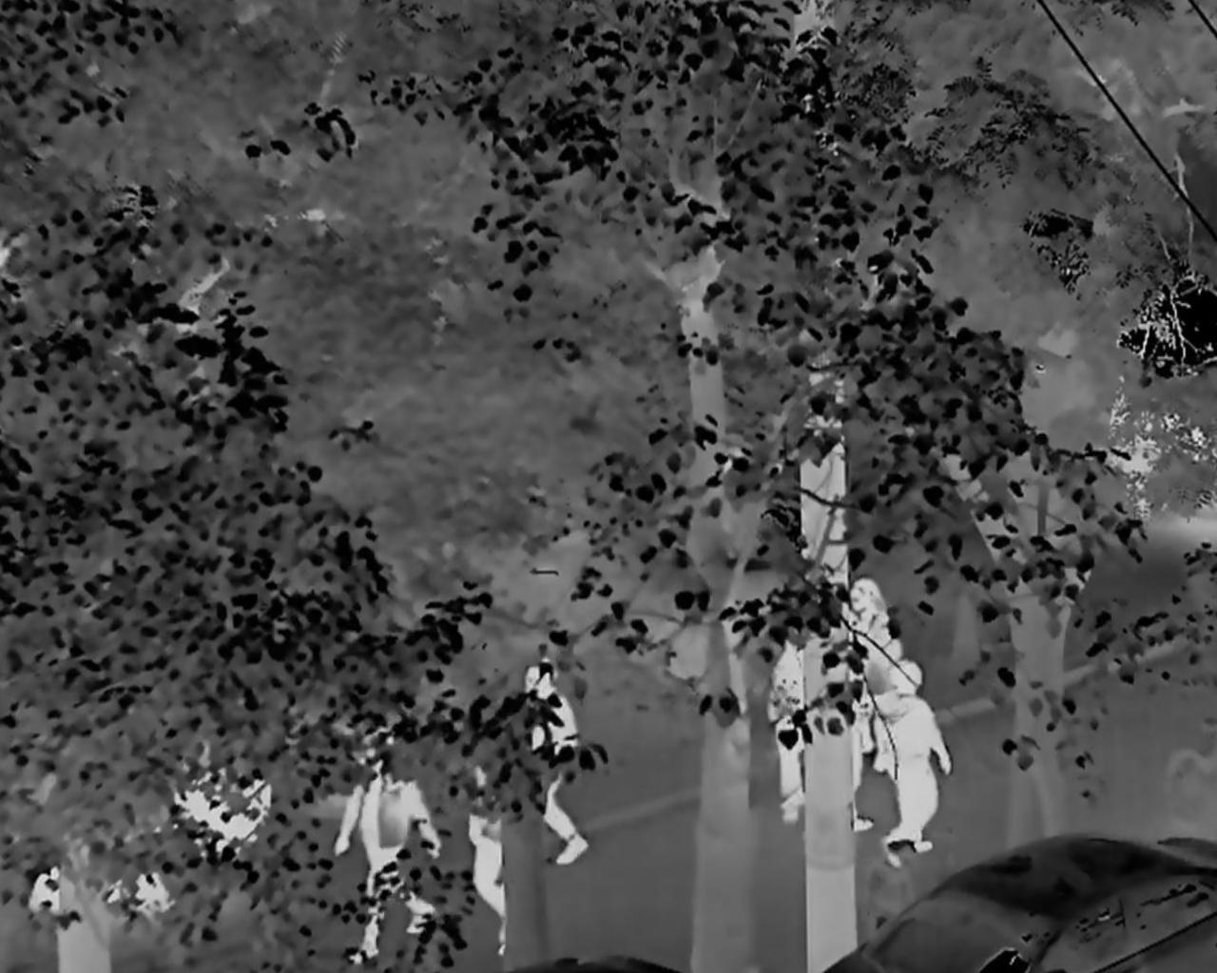person: (342, 735, 443, 966), (863, 663, 951, 867), (517, 654, 590, 868), (843, 581, 900, 799), (774, 628, 831, 830), (466, 752, 520, 959)
